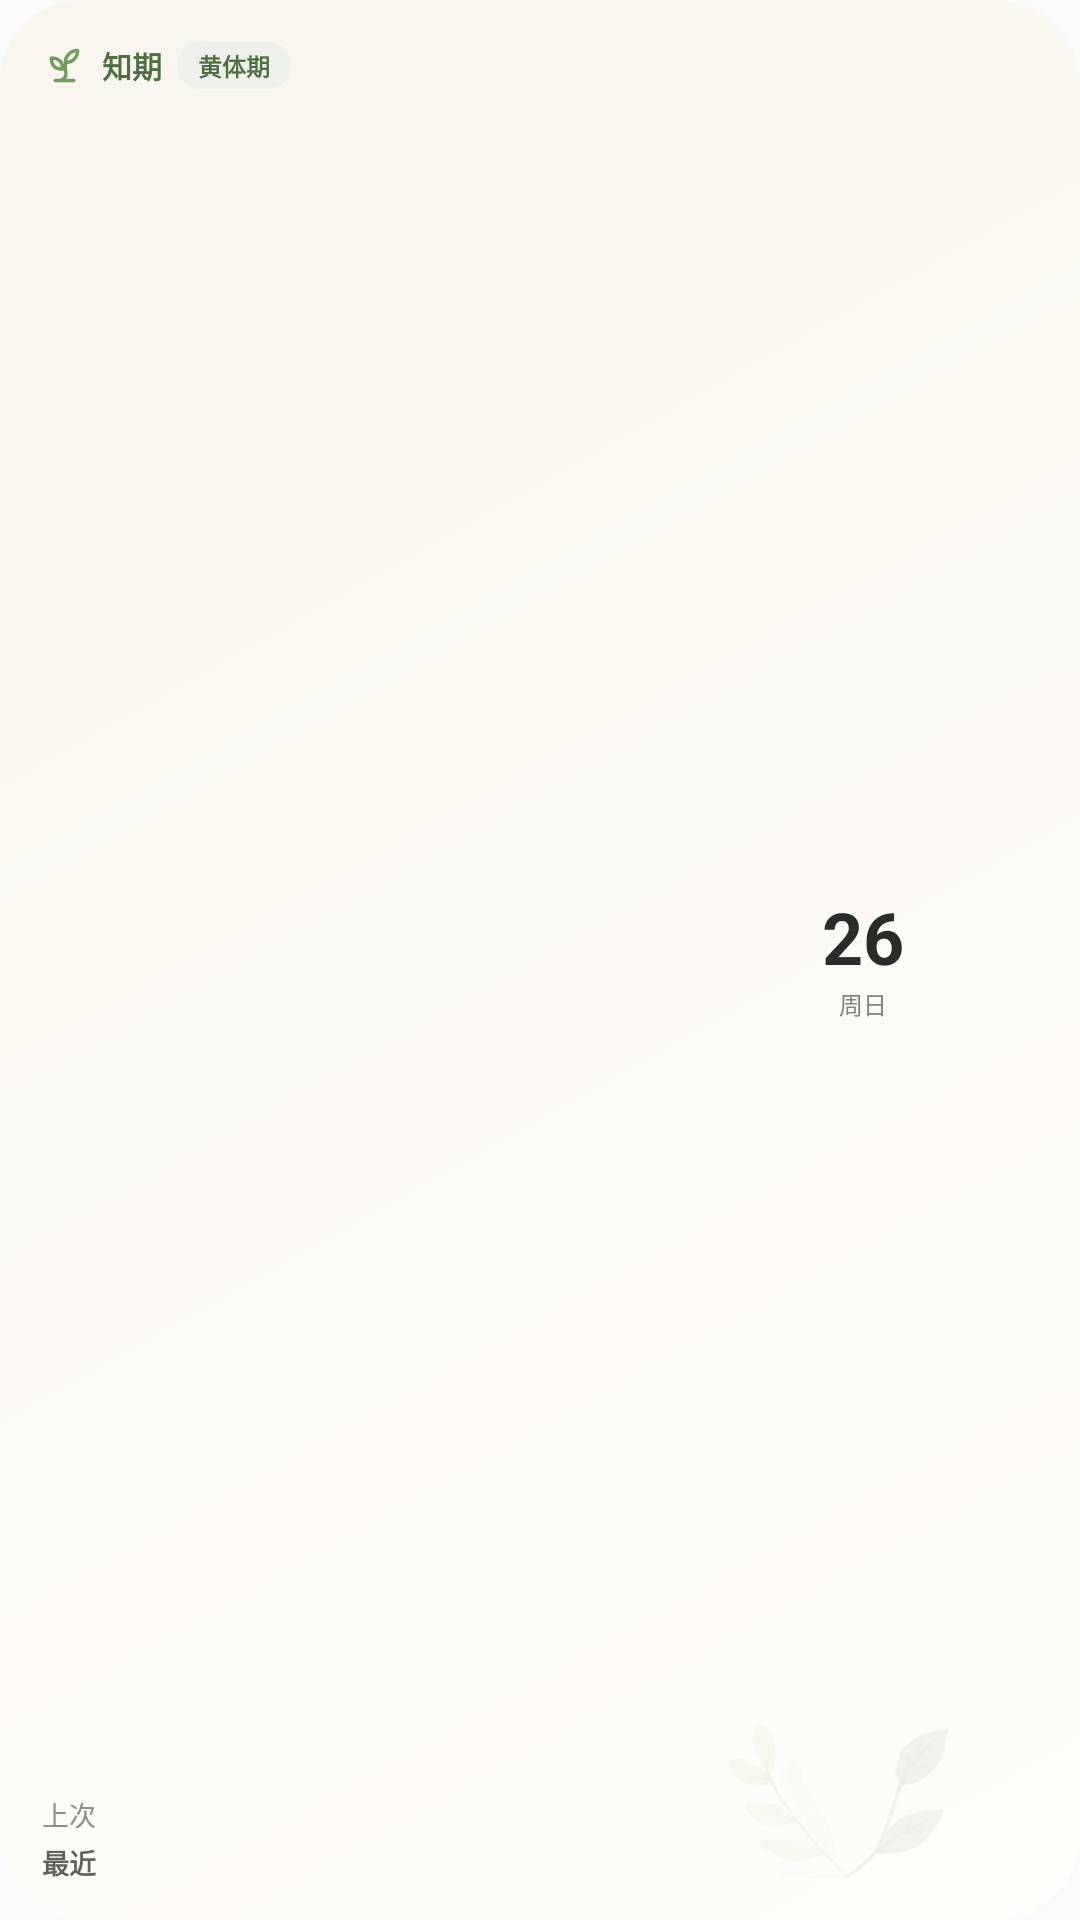

Where to tap for icons on this 1080×1920 app screen, as point (x, y):
widget sprout: point (64, 65)
